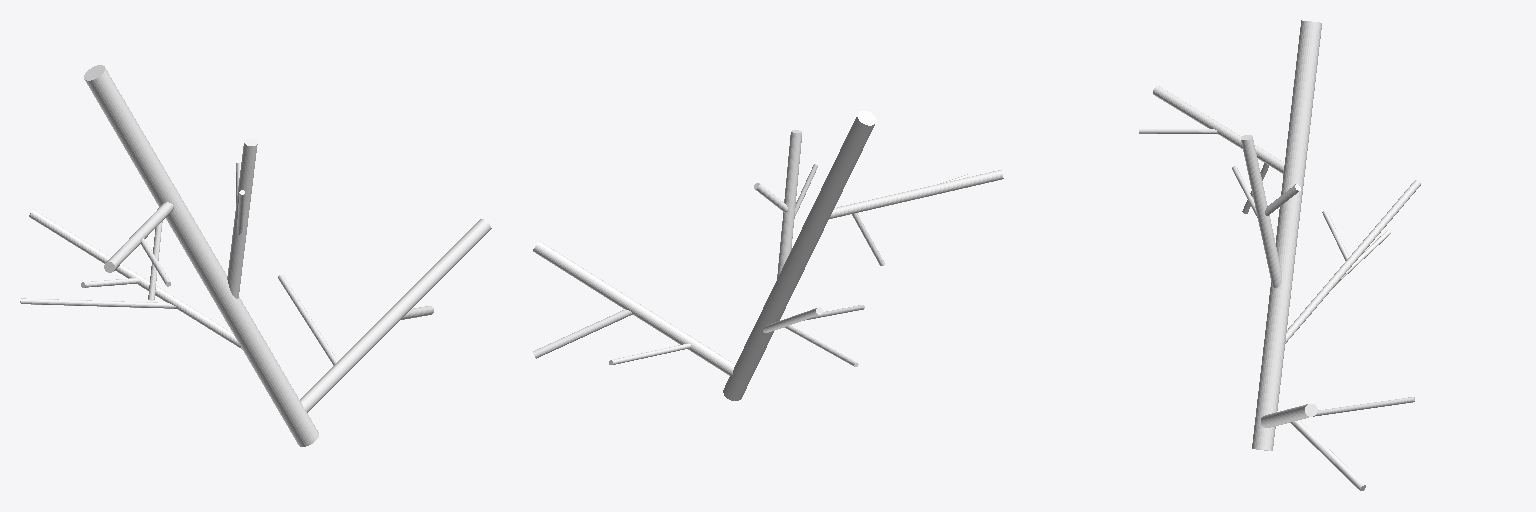
robot.urdf — tree_49.urdf:
<?xml version='1.0' encoding='UTF-8'?>
<robot name="tree_49.urdf">
  <link name="branch_0">
    <inertial>
      <origin xyz="0.0 0.0 0.0" rpy="0.0 -0.0 0.0"/>
      <mass value="1.0"/>
      <inertia ixx="1.0" ixy="0.0" ixz="0.0" iyy="1.0" iyz="0.0" izz="1.0"/>
    </inertial>
    <visual name="branch_0_visual">
      <geometry>
        <cylinder radius="0.1637440144659433" length="6.643460676428826"/>
      </geometry>
      <material name="branch_material"/>
      <origin xyz="-1.4723463724562638 0.3805532168568544 2.953179278077919" rpy="1.3436237250165448e-17 0.4755337928551887 2.8886608914107836"/>
    </visual>
    <collision name="branch_0_collision">
      <geometry>
        <cylinder radius="0.1637440144659433" length="6.643460676428826"/>
      </geometry>
      <origin xyz="-1.4723463724562638 0.3805532168568544 2.953179278077919" rpy="1.3436237250165448e-17 0.4755337928551887 2.8886608914107836"/>
    </collision>
  </link>
  <link name="branch_1">
    <inertial>
      <origin xyz="0.0 0.0 0.0" rpy="0.0 -0.0 0.0"/>
      <mass value="1.0"/>
      <inertia ixx="1.0" ixy="0.0" ixz="0.0" iyy="1.0" iyz="0.0" izz="1.0"/>
    </inertial>
    <visual name="branch_1_visual">
      <geometry>
        <cylinder radius="0.10263061136371326" length="3.9324557390740553"/>
      </geometry>
      <material name="branch_material"/>
      <origin xyz="0.0 0.0 0.0" rpy="0.0 -0.0 0.0"/>
    </visual>
    <collision name="branch_1_collision">
      <geometry>
        <cylinder radius="0.10263061136371326" length="3.9324557390740553"/>
      </geometry>
      <origin xyz="0.0 0.0 0.0" rpy="0.0 -0.0 0.0"/>
    </collision>
  </link>
  <link name="branch_2">
    <inertial>
      <origin xyz="0.0 0.0 0.0" rpy="0.0 -0.0 0.0"/>
      <mass value="1.0"/>
      <inertia ixx="1.0" ixy="0.0" ixz="0.0" iyy="1.0" iyz="0.0" izz="1.0"/>
    </inertial>
    <visual name="branch_2_visual">
      <geometry>
        <cylinder radius="0.043190678015197666" length="2.202847616451627"/>
      </geometry>
      <material name="branch_material"/>
      <origin xyz="0.0 0.0 0.0" rpy="0.0 -0.0 0.0"/>
    </visual>
    <collision name="branch_2_collision">
      <geometry>
        <cylinder radius="0.043190678015197666" length="2.202847616451627"/>
      </geometry>
      <origin xyz="0.0 0.0 0.0" rpy="0.0 -0.0 0.0"/>
    </collision>
  </link>
  <link name="branch_3">
    <inertial>
      <origin xyz="0.0 0.0 0.0" rpy="0.0 -0.0 0.0"/>
      <mass value="1.0"/>
      <inertia ixx="1.0" ixy="0.0" ixz="0.0" iyy="1.0" iyz="0.0" izz="1.0"/>
    </inertial>
    <visual name="branch_3_visual">
      <geometry>
        <cylinder radius="0.06457590668028185" length="1.8025794287980341"/>
      </geometry>
      <material name="branch_material"/>
      <origin xyz="0.0 0.0 0.0" rpy="0.0 -0.0 0.0"/>
    </visual>
    <collision name="branch_3_collision">
      <geometry>
        <cylinder radius="0.06457590668028185" length="1.8025794287980341"/>
      </geometry>
      <origin xyz="0.0 0.0 0.0" rpy="0.0 -0.0 0.0"/>
    </collision>
  </link>
  <link name="branch_4">
    <inertial>
      <origin xyz="0.0 0.0 0.0" rpy="0.0 -0.0 0.0"/>
      <mass value="1.0"/>
      <inertia ixx="1.0" ixy="0.0" ixz="0.0" iyy="1.0" iyz="0.0" izz="1.0"/>
    </inertial>
    <visual name="branch_4_visual">
      <geometry>
        <cylinder radius="0.07927548563264548" length="3.0767374005647756"/>
      </geometry>
      <material name="branch_material"/>
      <origin xyz="0.0 0.0 0.0" rpy="0.0 -0.0 0.0"/>
    </visual>
    <collision name="branch_4_collision">
      <geometry>
        <cylinder radius="0.07927548563264548" length="3.0767374005647756"/>
      </geometry>
      <origin xyz="0.0 0.0 0.0" rpy="0.0 -0.0 0.0"/>
    </collision>
  </link>
  <link name="branch_5">
    <inertial>
      <origin xyz="0.0 0.0 0.0" rpy="0.0 -0.0 0.0"/>
      <mass value="1.0"/>
      <inertia ixx="1.0" ixy="0.0" ixz="0.0" iyy="1.0" iyz="0.0" izz="1.0"/>
    </inertial>
    <visual name="branch_5_visual">
      <geometry>
        <cylinder radius="0.04" length="1.3314513870465605"/>
      </geometry>
      <material name="branch_material"/>
      <origin xyz="0.0 0.0 0.0" rpy="0.0 -0.0 0.0"/>
    </visual>
    <collision name="branch_5_collision">
      <geometry>
        <cylinder radius="0.04" length="1.3314513870465605"/>
      </geometry>
      <origin xyz="0.0 0.0 0.0" rpy="0.0 -0.0 0.0"/>
    </collision>
  </link>
  <link name="branch_6">
    <inertial>
      <origin xyz="0.0 0.0 0.0" rpy="0.0 -0.0 0.0"/>
      <mass value="1.0"/>
      <inertia ixx="1.0" ixy="0.0" ixz="0.0" iyy="1.0" iyz="0.0" izz="1.0"/>
    </inertial>
    <visual name="branch_6_visual">
      <geometry>
        <cylinder radius="0.044527809709081836" length="1.1744074344533526"/>
      </geometry>
      <material name="branch_material"/>
      <origin xyz="0.0 0.0 0.0" rpy="0.0 -0.0 0.0"/>
    </visual>
    <collision name="branch_6_collision">
      <geometry>
        <cylinder radius="0.044527809709081836" length="1.1744074344533526"/>
      </geometry>
      <origin xyz="0.0 0.0 0.0" rpy="0.0 -0.0 0.0"/>
    </collision>
  </link>
  <link name="branch_7">
    <inertial>
      <origin xyz="0.0 0.0 0.0" rpy="0.0 -0.0 0.0"/>
      <mass value="1.0"/>
      <inertia ixx="1.0" ixy="0.0" ixz="0.0" iyy="1.0" iyz="0.0" izz="1.0"/>
    </inertial>
    <visual name="branch_7_visual">
      <geometry>
        <cylinder radius="0.0945982399249824" length="2.7217569721756734"/>
      </geometry>
      <material name="branch_material"/>
      <origin xyz="0.0 0.0 0.0" rpy="0.0 -0.0 0.0"/>
    </visual>
    <collision name="branch_7_collision">
      <geometry>
        <cylinder radius="0.0945982399249824" length="2.7217569721756734"/>
      </geometry>
      <origin xyz="0.0 0.0 0.0" rpy="0.0 -0.0 0.0"/>
    </collision>
  </link>
  <link name="branch_8">
    <inertial>
      <origin xyz="0.0 0.0 0.0" rpy="0.0 -0.0 0.0"/>
      <mass value="1.0"/>
      <inertia ixx="1.0" ixy="0.0" ixz="0.0" iyy="1.0" iyz="0.0" izz="1.0"/>
    </inertial>
    <visual name="branch_8_visual">
      <geometry>
        <cylinder radius="0.04" length="1.1164643276028172"/>
      </geometry>
      <material name="branch_material"/>
      <origin xyz="0.0 0.0 0.0" rpy="0.0 -0.0 0.0"/>
    </visual>
    <collision name="branch_8_collision">
      <geometry>
        <cylinder radius="0.04" length="1.1164643276028172"/>
      </geometry>
      <origin xyz="0.0 0.0 0.0" rpy="0.0 -0.0 0.0"/>
    </collision>
  </link>
  <link name="branch_9">
    <inertial>
      <origin xyz="0.0 0.0 0.0" rpy="0.0 -0.0 0.0"/>
      <mass value="1.0"/>
      <inertia ixx="1.0" ixy="0.0" ixz="0.0" iyy="1.0" iyz="0.0" izz="1.0"/>
    </inertial>
    <visual name="branch_9_visual">
      <geometry>
        <cylinder radius="0.061280812417686084" length="0.8593651239025624"/>
      </geometry>
      <material name="branch_material"/>
      <origin xyz="0.0 0.0 0.0" rpy="0.0 -0.0 0.0"/>
    </visual>
    <collision name="branch_9_collision">
      <geometry>
        <cylinder radius="0.061280812417686084" length="0.8593651239025624"/>
      </geometry>
      <origin xyz="0.0 0.0 0.0" rpy="0.0 -0.0 0.0"/>
    </collision>
  </link>
  <link name="branch_10">
    <inertial>
      <origin xyz="0.0 0.0 0.0" rpy="0.0 -0.0 0.0"/>
      <mass value="1.0"/>
      <inertia ixx="1.0" ixy="0.0" ixz="0.0" iyy="1.0" iyz="0.0" izz="1.0"/>
    </inertial>
    <visual name="branch_10_visual">
      <geometry>
        <cylinder radius="0.060548353761711325" length="3.6860016789976218"/>
      </geometry>
      <material name="branch_material"/>
      <origin xyz="0.0 0.0 0.0" rpy="0.0 -0.0 0.0"/>
    </visual>
    <collision name="branch_10_collision">
      <geometry>
        <cylinder radius="0.060548353761711325" length="3.6860016789976218"/>
      </geometry>
      <origin xyz="0.0 0.0 0.0" rpy="0.0 -0.0 0.0"/>
    </collision>
  </link>
  <link name="branch_11">
    <inertial>
      <origin xyz="0.0 0.0 0.0" rpy="0.0 -0.0 0.0"/>
      <mass value="1.0"/>
      <inertia ixx="1.0" ixy="0.0" ixz="0.0" iyy="1.0" iyz="0.0" izz="1.0"/>
    </inertial>
    <visual name="branch_11_visual">
      <geometry>
        <cylinder radius="0.04" length="1.2206000455615225"/>
      </geometry>
      <material name="branch_material"/>
      <origin xyz="0.0 0.0 0.0" rpy="0.0 -0.0 0.0"/>
    </visual>
    <collision name="branch_11_collision">
      <geometry>
        <cylinder radius="0.04" length="1.2206000455615225"/>
      </geometry>
      <origin xyz="0.0 0.0 0.0" rpy="0.0 -0.0 0.0"/>
    </collision>
  </link>
  <link name="branch_12">
    <inertial>
      <origin xyz="0.0 0.0 0.0" rpy="0.0 -0.0 0.0"/>
      <mass value="1.0"/>
      <inertia ixx="1.0" ixy="0.0" ixz="0.0" iyy="1.0" iyz="0.0" izz="1.0"/>
    </inertial>
    <visual name="branch_12_visual">
      <geometry>
        <cylinder radius="0.04" length="2.1949663446190337"/>
      </geometry>
      <material name="branch_material"/>
      <origin xyz="0.0 0.0 0.0" rpy="0.0 -0.0 0.0"/>
    </visual>
    <collision name="branch_12_collision">
      <geometry>
        <cylinder radius="0.04" length="2.1949663446190337"/>
      </geometry>
      <origin xyz="0.0 0.0 0.0" rpy="0.0 -0.0 0.0"/>
    </collision>
  </link>
  <joint name="joint_0_1" type="fixed">
    <parent link="branch_0"/>
    <child link="branch_1"/>
    <axis xyz="1. 0. 0."/>
    <origin xyz="1.5203218442030264 0.4010617313376429 1.285403936697946" rpy="-0.37302115028861105 1.056887061858558 -0.21994471994118017"/>
  </joint>
  <joint name="joint_0_4" type="fixed">
    <parent link="branch_0"/>
    <child link="branch_4"/>
    <axis xyz="1. 0. 0."/>
    <origin xyz="-2.9889127932040105 -0.5704286022851434 3.999154725183751" rpy="1.2612722710870568 1.1213064183292072 -1.0830306976279553"/>
  </joint>
  <joint name="joint_0_7" type="fixed">
    <parent link="branch_0"/>
    <child link="branch_7"/>
    <axis xyz="1. 0. 0."/>
    <origin xyz="-1.0625981990000384 0.01767731099689545 3.484228031140442" rpy="0.1595902599716275 0.10667116363251687 -0.5517799843097301"/>
  </joint>
  <joint name="joint_0_10" type="fixed">
    <parent link="branch_0"/>
    <child link="branch_10"/>
    <axis xyz="1. 0. 0."/>
    <origin xyz="-1.8400485194705758 1.2867426901042471 2.2498973988544635" rpy="-0.5715989842666945 0.9546155394460843 1.7118385825646976"/>
  </joint>
  <joint name="joint_1_2" type="fixed">
    <parent link="branch_0"/>
    <child link="branch_2"/>
    <axis xyz="1. 0. 0."/>
    <origin xyz="0.7665412620339276 1.2813962938274364 1.0489899896691377" rpy="1.332668868367673 0.4179852153954766 2.905598466875544"/>
  </joint>
  <joint name="joint_1_3" type="fixed">
    <parent link="branch_0"/>
    <child link="branch_3"/>
    <axis xyz="1. 0. 0."/>
    <origin xyz="2.1898861713991273 0.9828380010219693 0.9865763823012754" rpy="2.1879260686591224 0.8933869511968394 2.823099421949232"/>
  </joint>
  <joint name="joint_4_5" type="fixed">
    <parent link="branch_0"/>
    <child link="branch_5"/>
    <axis xyz="1. 0. 0."/>
    <origin xyz="-3.163091646615709 -1.246863423184822 3.9404055014708033" rpy="1.6747035710311788 0.36774690217668704 -0.18093369546866425"/>
  </joint>
  <joint name="joint_4_6" type="fixed">
    <parent link="branch_0"/>
    <child link="branch_6"/>
    <axis xyz="1. 0. 0."/>
    <origin xyz="-2.464403788541736 -0.07874819780097182 3.3412173091727815" rpy="3.120088235952514 0.45419340328578567 0.7613554807390933"/>
  </joint>
  <joint name="joint_7_8" type="fixed">
    <parent link="branch_0"/>
    <child link="branch_8"/>
    <axis xyz="1. 0. 0."/>
    <origin xyz="-1.1843284075887488 -0.18731734265429067 3.7206156993896387" rpy="-0.1410314747009282 0.5077220656444137 -2.2986055345198073"/>
  </joint>
  <joint name="joint_7_9" type="fixed">
    <parent link="branch_0"/>
    <child link="branch_9"/>
    <axis xyz="1. 0. 0."/>
    <origin xyz="-0.9133100959953286 0.2818603210178854 3.803563069867877" rpy="0.12108592412002676 0.7868176436689238 1.2325970009608878"/>
  </joint>
  <joint name="joint_10_11" type="fixed">
    <parent link="branch_0"/>
    <child link="branch_11"/>
    <axis xyz="1. 0. 0."/>
    <origin xyz="-2.4507853433101987 1.1518609661868322 2.4652127511277766" rpy="1.258753078122753 0.40860383331454003 -1.3701036396443036"/>
  </joint>
  <joint name="joint_10_12" type="fixed">
    <parent link="branch_0"/>
    <child link="branch_12"/>
    <axis xyz="1. 0. 0."/>
    <origin xyz="-2.4537162377700166 1.4413196786563318 2.033949540563554" rpy="1.4567202509504422 1.0513056743964406 -2.143480006183082"/>
  </joint>
  <material name="branch_material">
    <color rgba="1. 1. 1. 1."/>
  </material>
</robot>

--- Facts derived from the render (not from the file) ---
Views: 3 orthographic renders of the robot side by side, from view 1: azimuth 30°, elevation 25°; view 2: azimuth 150°, elevation 25°; view 3: azimuth 270°, elevation 25°.
Model tree_49.urdf with 13 links and 12 joints (12 fixed), rooted at branch_0, posed every joint at zero.
Links seen in each view (by area): view 1: branch_0, branch_1, branch_10, branch_7, branch_4, branch_12, branch_2; view 2: branch_0, branch_1, branch_4, branch_7, branch_3; view 3: branch_0, branch_7, branch_10, branch_4, branch_3, branch_1, branch_2.
Link boxes in pixels (<box>): branch_0: <box>84,65,318,446</box>; branch_1: <box>300,219,491,412</box>; branch_10: <box>29,209,241,348</box>; branch_7: <box>227,139,257,298</box>; branch_4: <box>104,202,173,272</box>; branch_12: <box>20,298,176,308</box>; branch_2: <box>278,274,337,365</box>; branch_0: <box>723,111,876,400</box>; branch_1: <box>533,241,734,375</box>; branch_4: <box>829,170,1003,218</box>; branch_7: <box>777,130,801,278</box>; branch_3: <box>533,309,632,358</box>; branch_0: <box>1252,20,1321,450</box>; branch_7: <box>1241,135,1281,287</box>; branch_10: <box>1285,180,1420,343</box>; branch_4: <box>1153,86,1284,173</box>; branch_3: <box>1290,420,1365,490</box>; branch_1: <box>1261,404,1317,427</box>; branch_2: <box>1313,397,1414,416</box>.
Bounding box of the posed robot: 7.42 × 4.35 × 6.06 m (x, y, z).
Geometry: primitives only (box / cylinder / sphere), no mesh files.